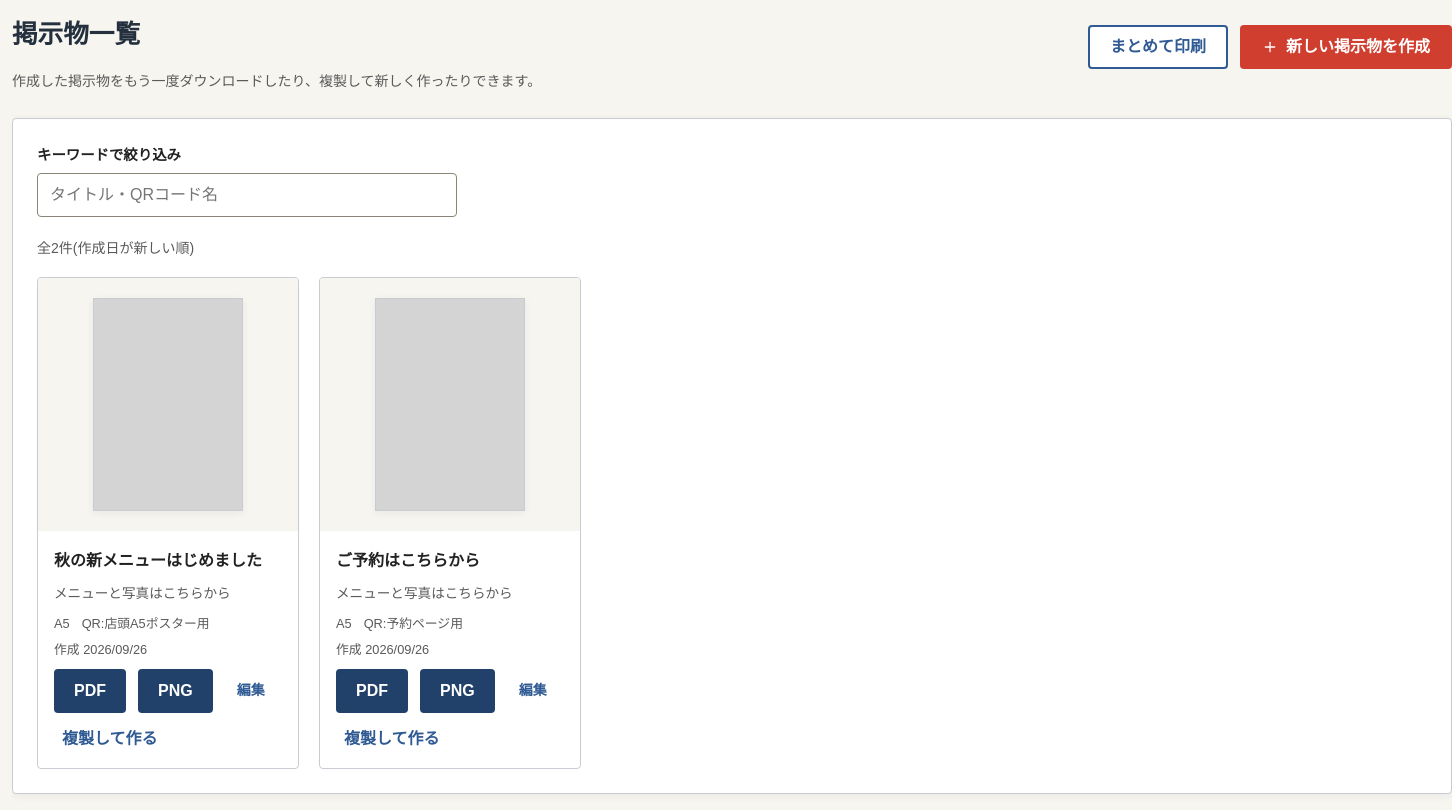
it: PosterListPage › キーワードでタイトルとQRコード名を絞り込める
Expected: the text "秋の新メニューはじめました" is shown, [54,547,282,574]
Type "予約" into the search field labelled "キーワードで絞り込み".
click(247, 195); type("予約")  # box [37,173,457,217]
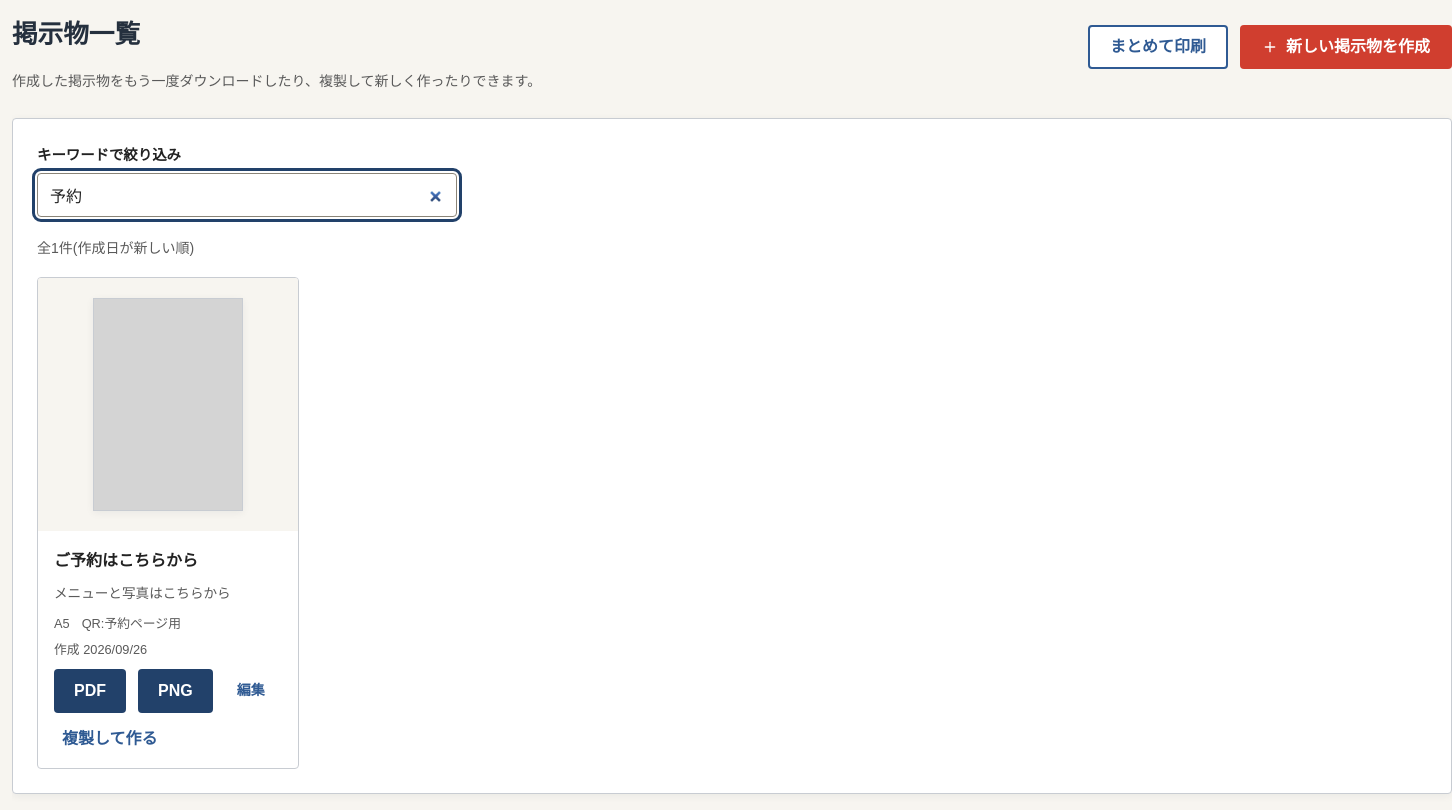
Expected: the text "ご予約はこちらから" is shown, [54,552,198,569]
Expected: the text "秋の新メニューはじめました" is gone
Replace the text in the search field labelled "キーワードで絞り込み" with "zzz" at point(247, 195), box [37,173,457,217]
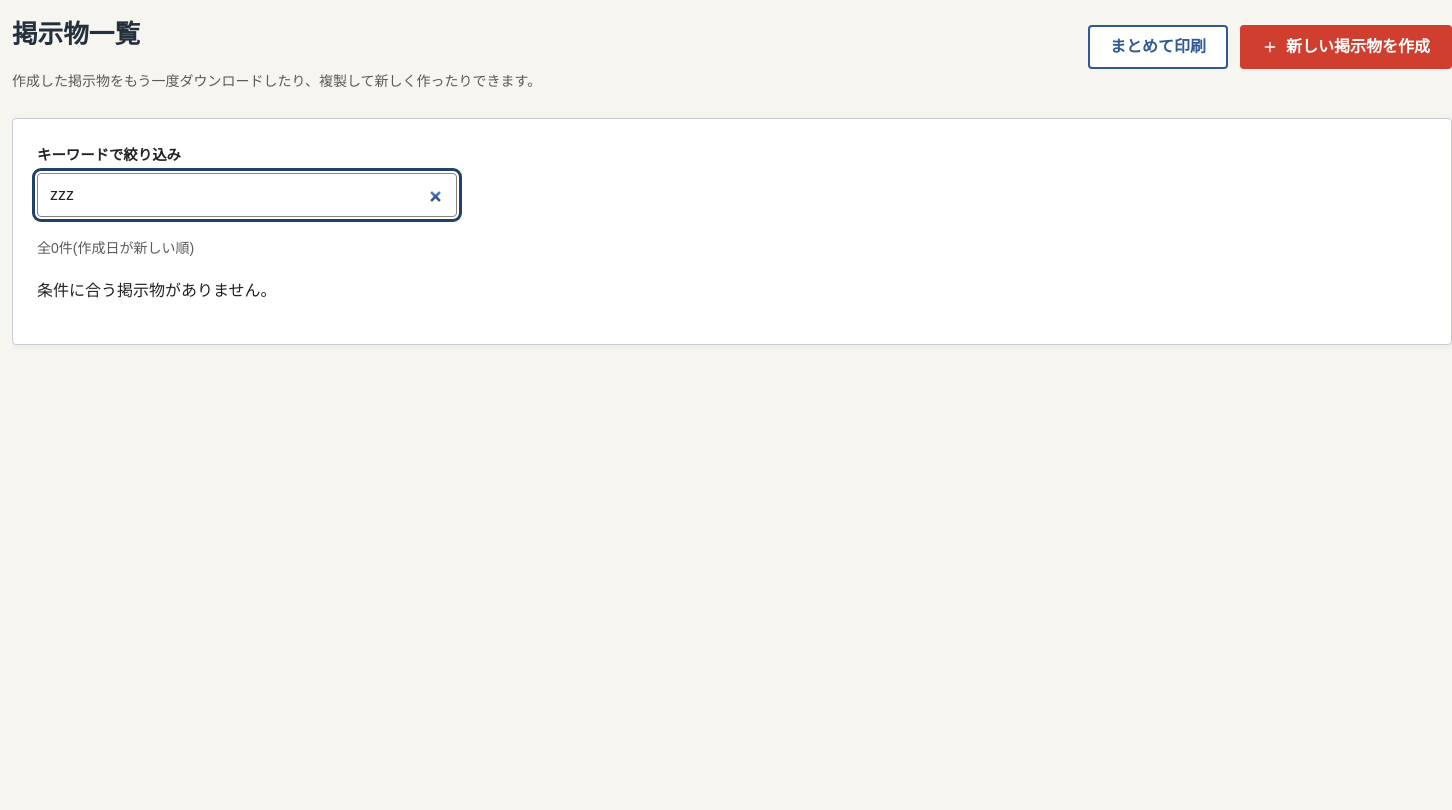
Expected: the text "条件に合う掲示物がありません。" is shown, [37,282,276,299]
